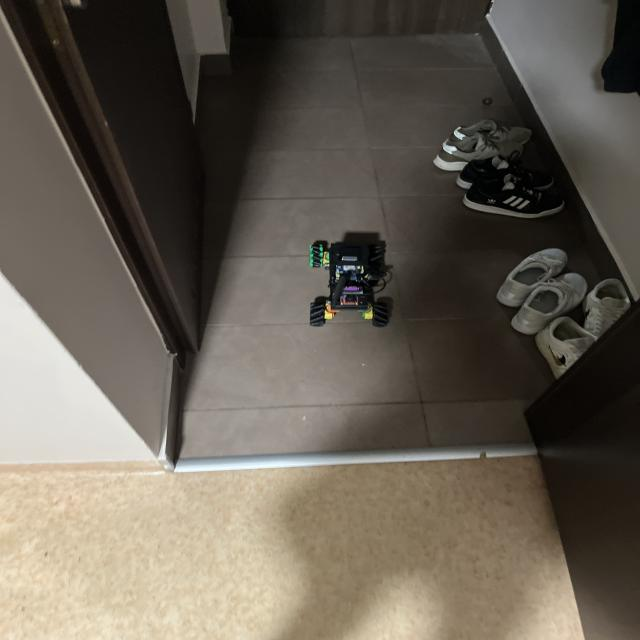robot: (309, 240, 391, 327)
